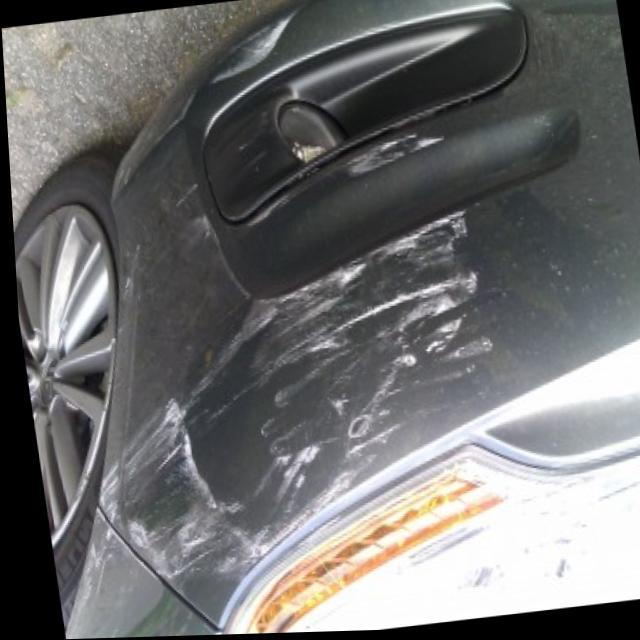Scratch: (106, 221, 475, 587)
